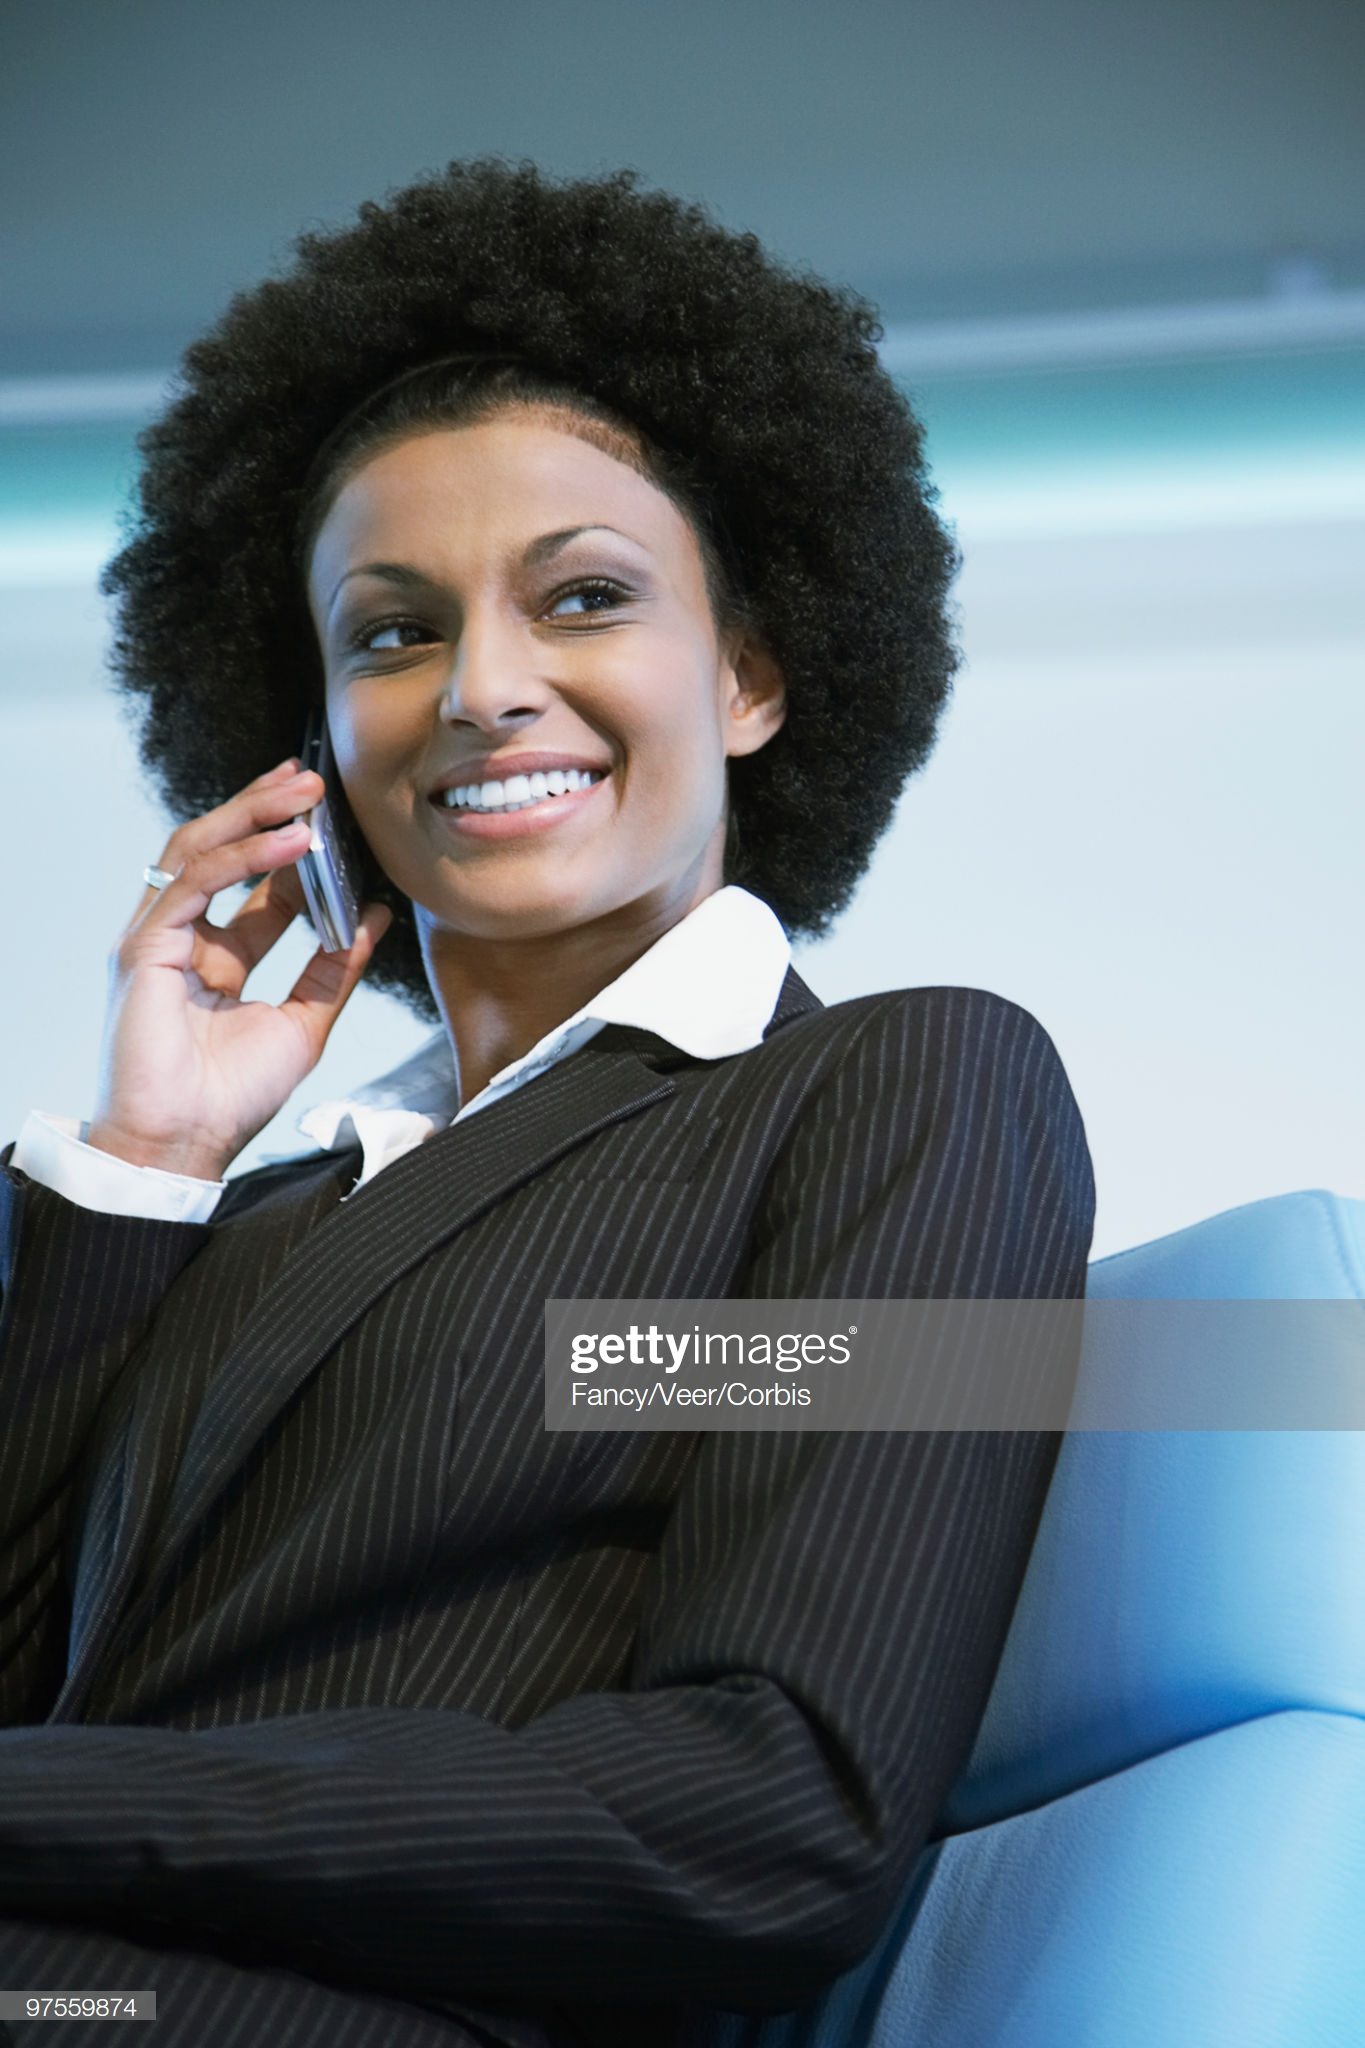phone: (178, 728, 373, 1093)
talk: (107, 499, 686, 1147)
